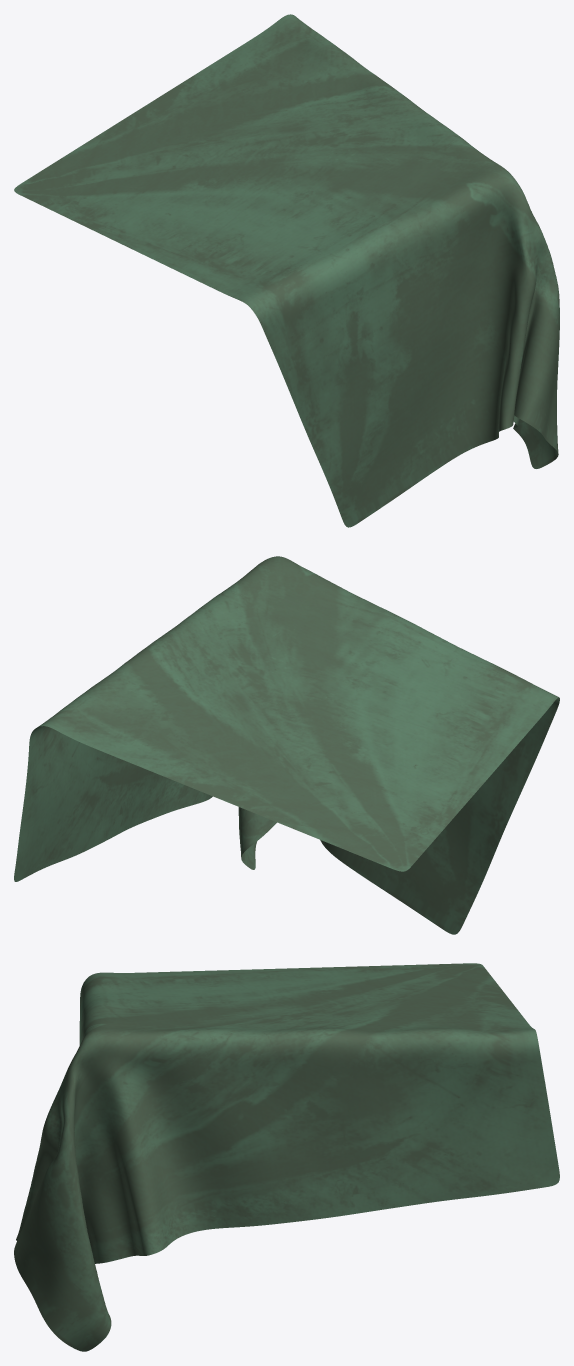
File: Cloth_C.fbx
3 views of the same model, one above another, from view 1: azimuth 30°, elevation 25°; view 2: azimuth 150°, elevation 25°; view 3: azimuth 270°, elevation 25° (orthographic). The views are drawn at different scales.
Parts seen in each view (by area): view 1: Plane; view 2: Plane; view 3: Plane.
Part boxes in pixels (x1=…): Plane: x1=14, y1=14, x2=559, y2=527; Plane: x1=14, y1=556, x2=559, y2=934; Plane: x1=14, y1=963, x2=559, y2=1351.
Size of the model in its own units: 187 by 158 by 244.
